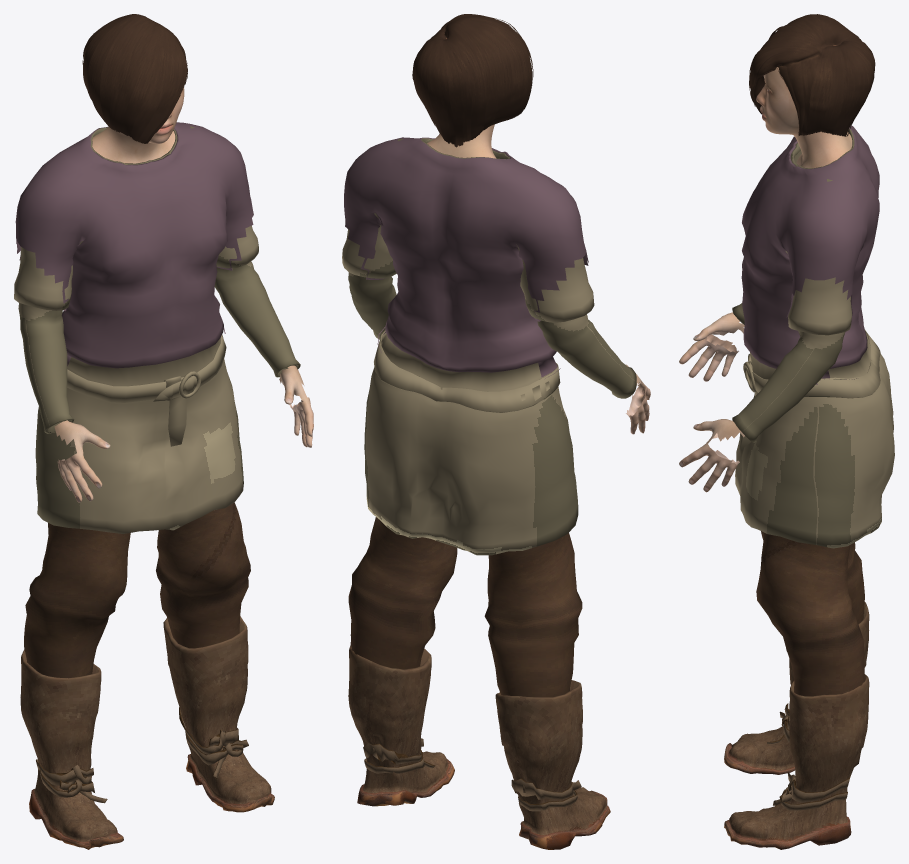
File: mara-work-vest.glb
The picture shows the model from 3 angles, left to right: view 1: azimuth 30°, elevation 25°; view 2: azimuth 150°, elevation 25°; view 3: azimuth 270°, elevation 25°; orthographic projection. The views are drawn at different scales.
Visible parts, largest first — view 1: mara-work-vest runtime mesh; view 2: mara-work-vest runtime mesh; view 3: mara-work-vest runtime mesh.
Boxes of the visible parts, <box> form: mara-work-vest runtime mesh: <box>14,14,313,849</box>; mara-work-vest runtime mesh: <box>342,14,650,849</box>; mara-work-vest runtime mesh: <box>679,14,894,849</box>.
Bounding box in the file's own units: 0.6279 × 1.85 × 0.4633.
8 materials, 7 textured.
